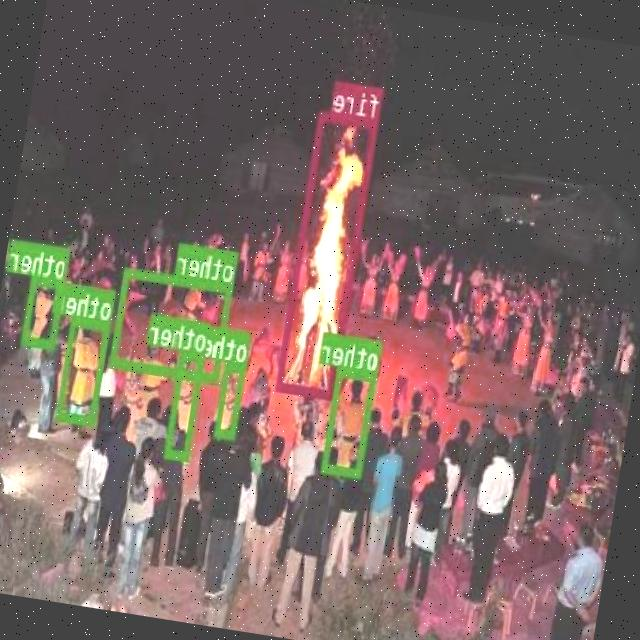fire: (278, 111, 380, 398)
